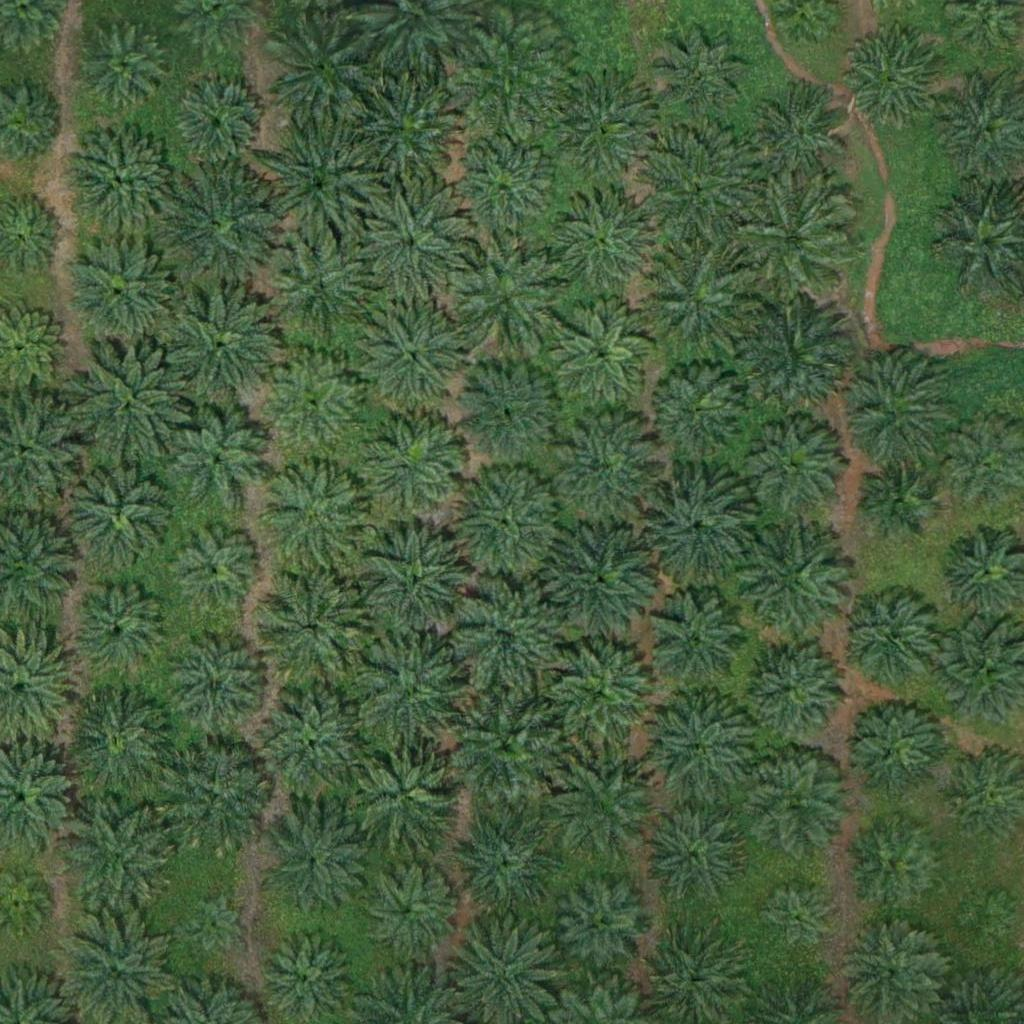Kelapa_Sawit: (453, 18, 566, 132), (734, 181, 847, 295), (838, 355, 951, 469), (259, 809, 372, 923), (62, 123, 175, 236), (63, 239, 176, 352), (166, 172, 279, 285), (164, 290, 277, 403), (260, 462, 373, 575), (252, 571, 365, 684), (345, 72, 458, 185), (448, 134, 561, 247), (452, 241, 565, 354), (449, 355, 562, 468), (552, 409, 665, 522), (544, 519, 657, 632), (645, 694, 758, 807), (546, 640, 659, 753), (357, 639, 470, 752), (348, 738, 461, 851), (257, 690, 370, 803), (65, 575, 177, 689), (543, 66, 655, 180), (547, 181, 659, 295), (642, 133, 754, 247), (639, 241, 751, 355), (739, 294, 851, 408), (736, 409, 848, 523), (159, 744, 271, 858), (62, 687, 174, 801), (644, 21, 756, 134), (268, 15, 380, 128), (72, 345, 184, 458), (66, 458, 178, 571), (263, 130, 375, 243), (265, 232, 377, 345), (354, 191, 466, 304), (355, 302, 467, 415), (360, 526, 472, 639), (448, 469, 560, 582), (449, 581, 561, 694), (640, 462, 752, 575), (738, 527, 850, 640), (548, 751, 660, 864), (451, 691, 563, 804), (447, 803, 559, 916), (65, 800, 177, 913), (840, 28, 940, 129), (165, 407, 265, 508), (261, 353, 361, 454), (361, 413, 461, 514), (551, 300, 651, 401), (646, 591, 746, 692), (746, 87, 846, 188), (843, 694, 943, 795), (847, 813, 947, 914), (839, 921, 939, 1022), (743, 639, 843, 740), (744, 751, 844, 852), (644, 800, 744, 901), (554, 877, 654, 978), (168, 636, 268, 736), (647, 357, 747, 457), (836, 590, 936, 690), (358, 859, 458, 959), (176, 80, 264, 168), (80, 22, 167, 111), (174, 526, 261, 614), (859, 459, 934, 535), (757, 883, 832, 958), (954, 887, 1016, 950), (183, 892, 245, 955)
